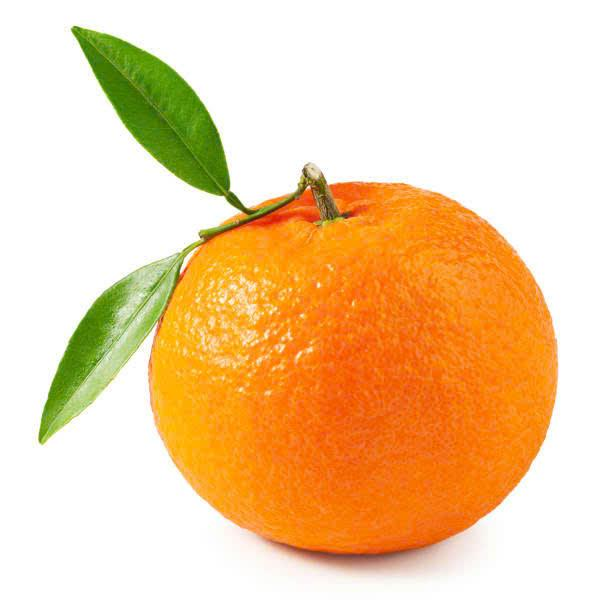orange: (91, 133, 565, 552)
